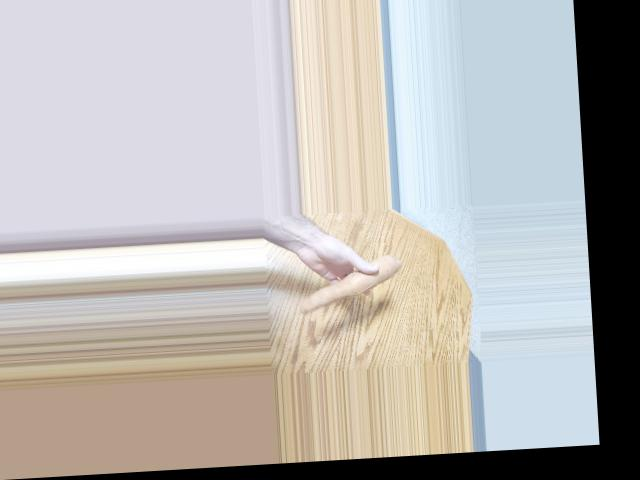sweet_potato: (296, 266, 407, 306)
